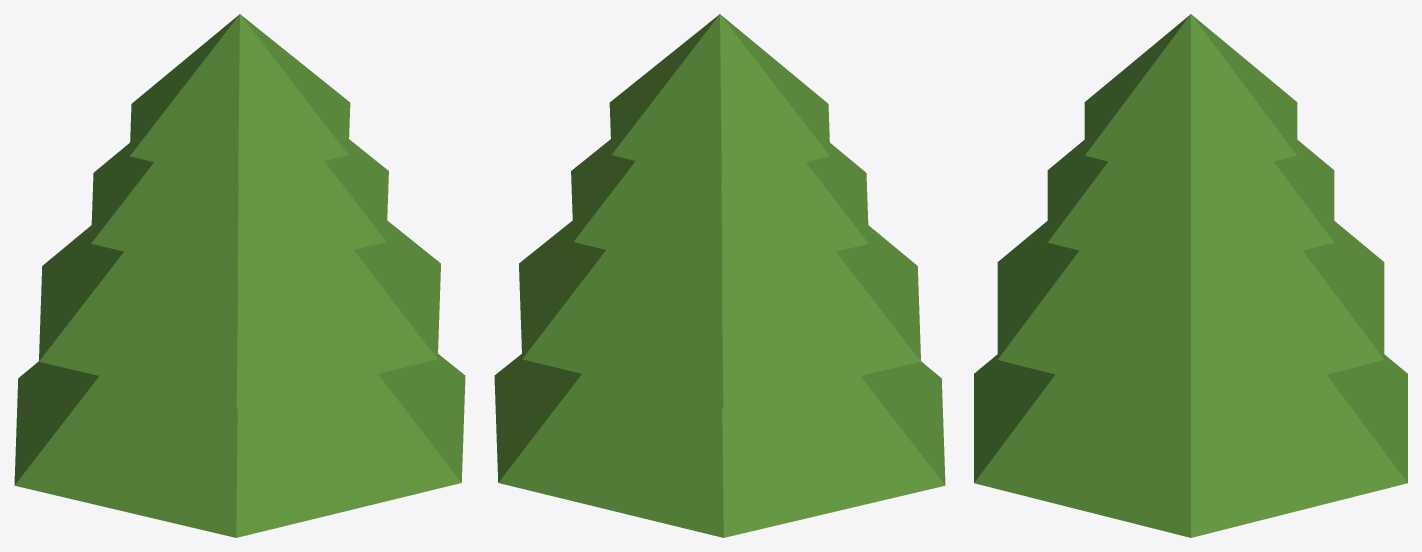
The model's file is tree.glb.
3 renders of one model, left to right at view 1: azimuth 30°, elevation 25°; view 2: azimuth 150°, elevation 25°; view 3: azimuth 270°, elevation 25°, orthographic.
Visible parts, largest first — view 1: tree; view 2: tree; view 3: tree.
Part boxes in pixels (box(x1,y1,x2,y2)): tree: box(14, 14, 465, 537); tree: box(494, 14, 945, 537); tree: box(974, 14, 1407, 537).
Bounding box in the file's own units: 20.44 × 22.04 × 17.12.
